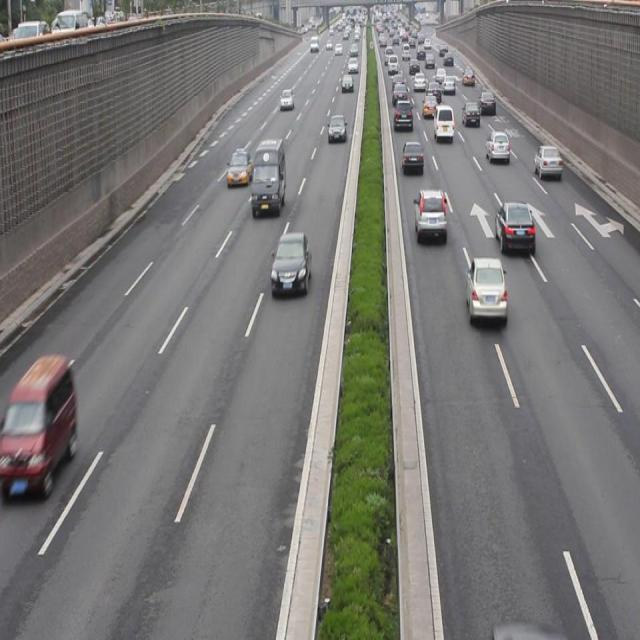car: (466, 255, 506, 327), (270, 232, 310, 298), (494, 203, 533, 253), (413, 190, 445, 244), (532, 143, 562, 183), (226, 150, 252, 187), (400, 140, 423, 176), (484, 130, 508, 163), (392, 98, 412, 132), (461, 101, 480, 128), (326, 115, 345, 141)
truck: (10, 354, 76, 499), (250, 137, 286, 219), (432, 105, 454, 142)
